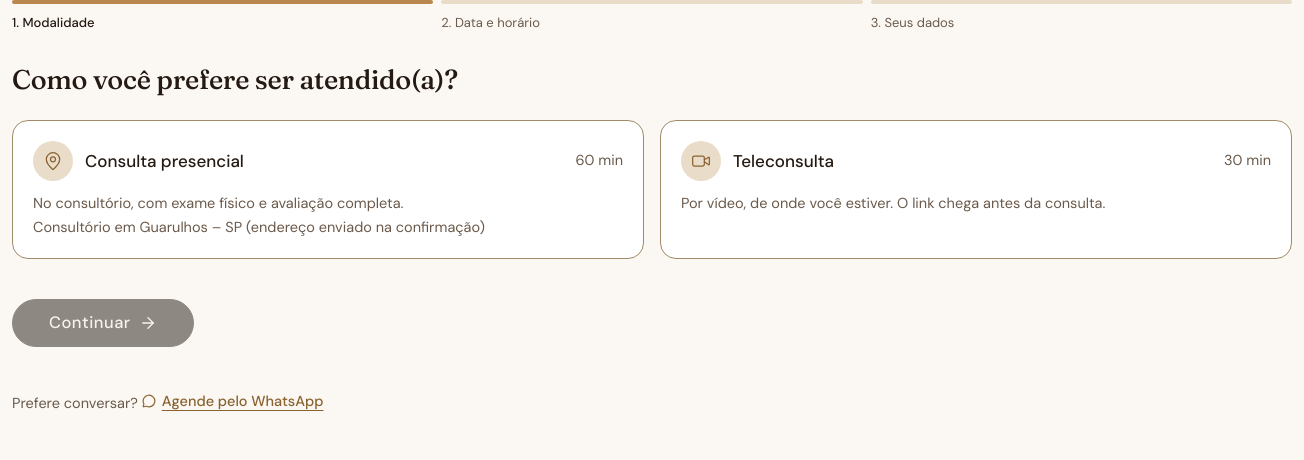
it: <FluxoAgendamento> › continuar sem escolher modalidade: mostra erro e foca o grupo
Click the button "Continuar".
click(103, 323)  # box [12,299,194,347]
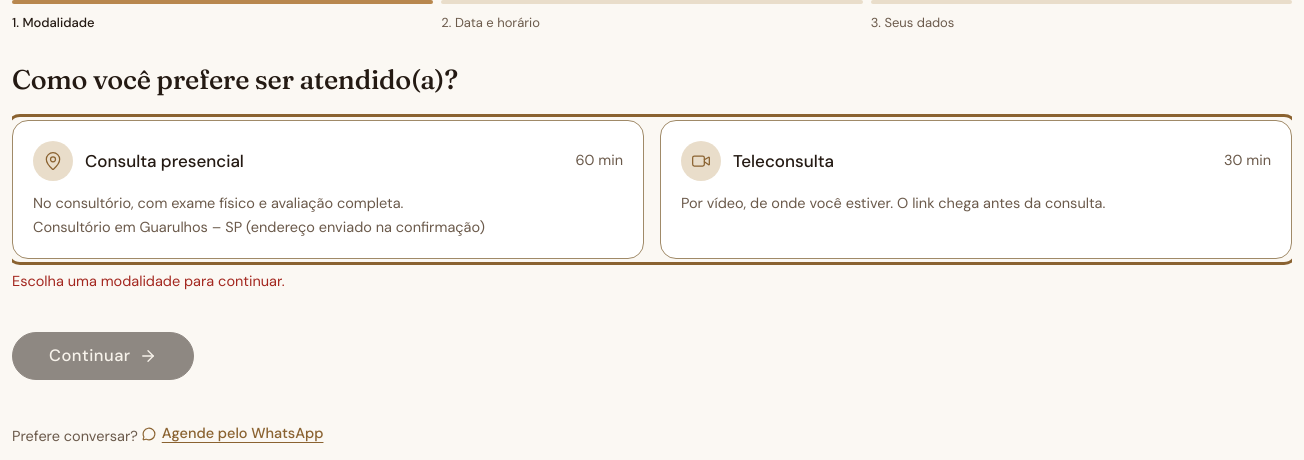
Expected: the message reads "Escolha uma modalidade para continuar.", [12,272,285,290]
